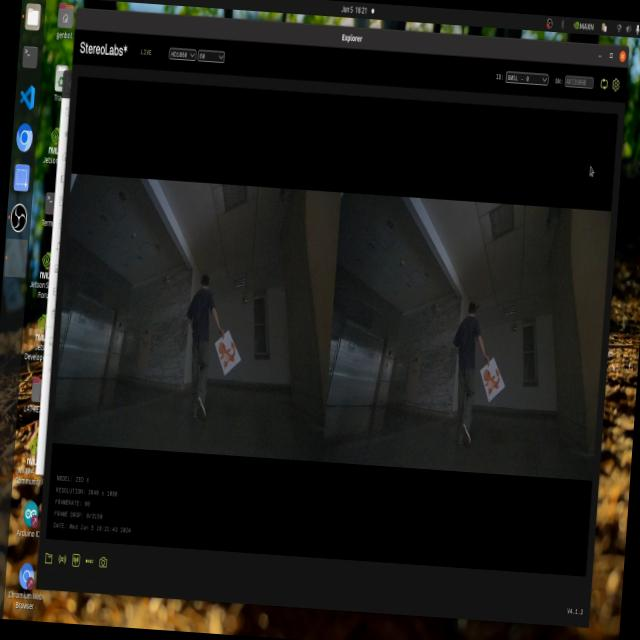red: (208, 337, 236, 372), (486, 360, 504, 400)
